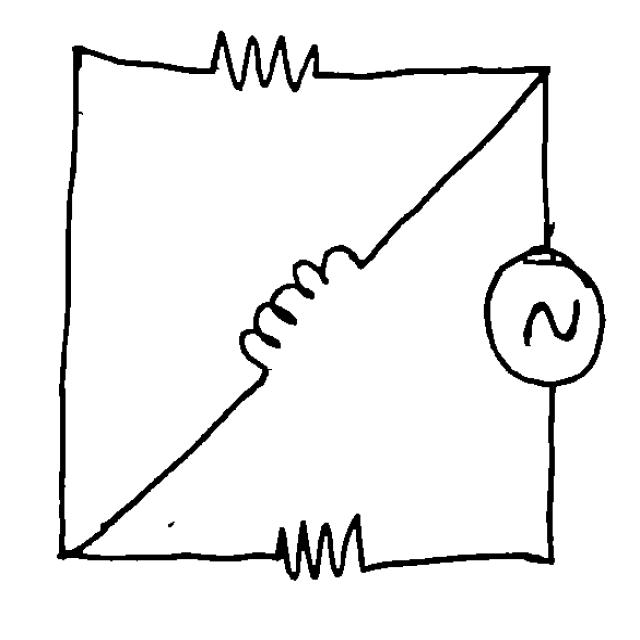ac: (467, 235, 618, 395)
inductor: (231, 234, 377, 384)
resistor: (194, 24, 348, 116), (256, 509, 390, 595)
